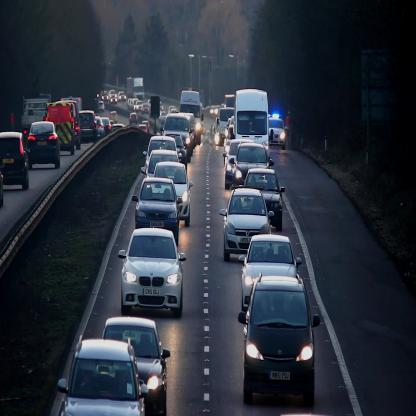car: (240, 276, 320, 406), (56, 338, 150, 415), (102, 317, 170, 415), (118, 229, 186, 318), (237, 234, 304, 314), (220, 189, 276, 261), (132, 180, 182, 244), (243, 168, 286, 230), (153, 161, 193, 227), (229, 141, 274, 190), (0, 132, 30, 190), (28, 122, 60, 171), (223, 139, 252, 191), (162, 113, 193, 160), (141, 150, 179, 178), (142, 136, 177, 158), (268, 118, 286, 150), (79, 111, 96, 143)
truck: (233, 88, 268, 155), (180, 89, 200, 145)
